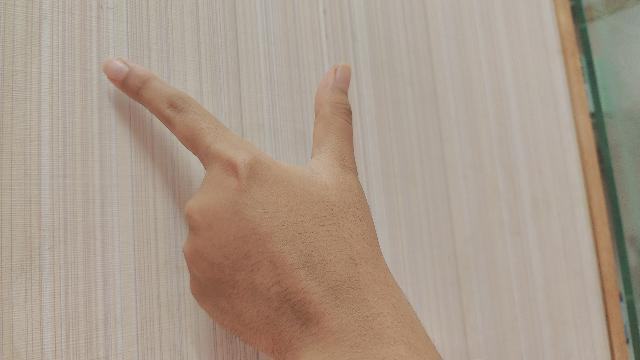chandrakala: (101, 59, 444, 360)
